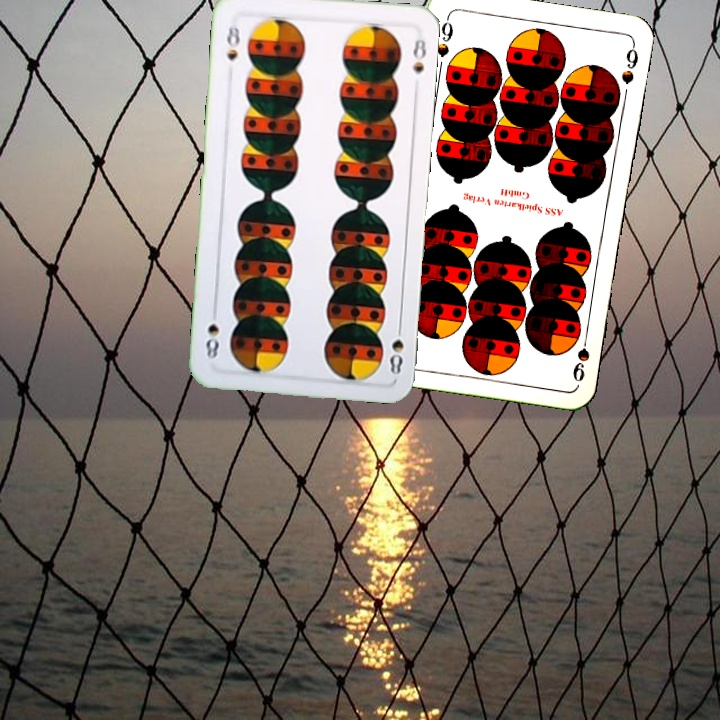S8: (385, 318, 406, 377), (222, 21, 243, 64)
S9: (569, 326, 592, 385), (432, 13, 456, 60)
